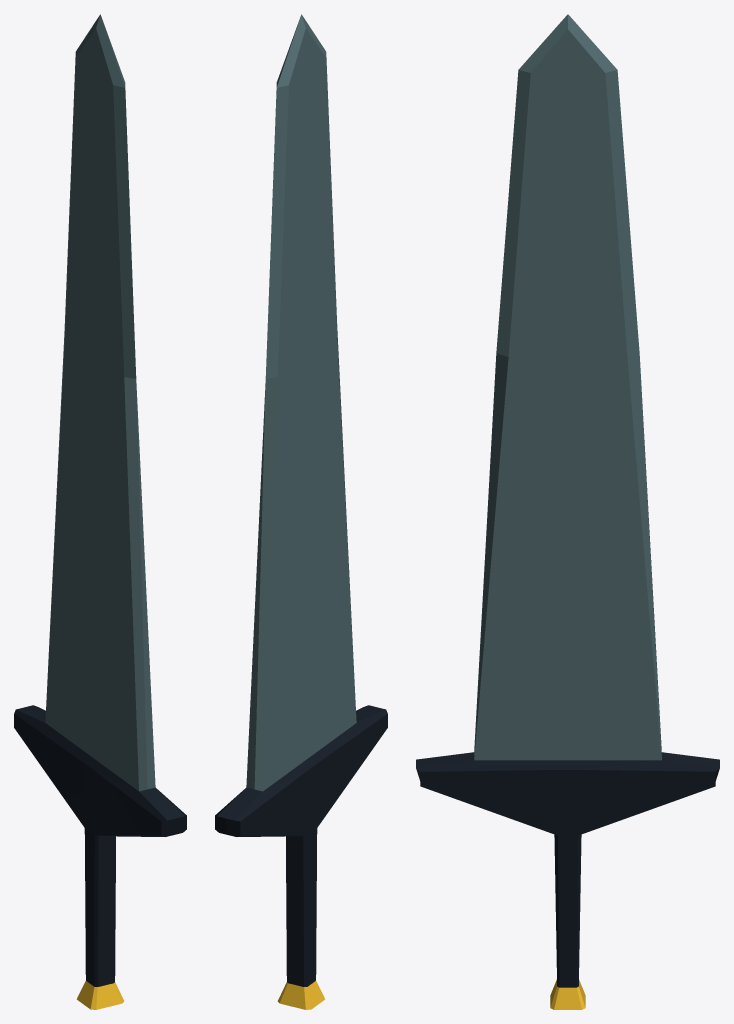
The model's file is GREATSWORD.fbx.
The picture shows the model from 3 angles, left to right: view 1: azimuth 30°, elevation 25°; view 2: azimuth 150°, elevation 25°; view 3: azimuth 270°, elevation 25°; orthographic projection.
Parts seen in each view (by area): view 1: MegaSwordLVL2.001; view 2: MegaSwordLVL2.001; view 3: MegaSwordLVL2.001.
Part boxes in pixels (box(x1,y1,x2,y2)): MegaSwordLVL2.001: box(14, 14, 186, 1009); MegaSwordLVL2.001: box(215, 14, 387, 1009); MegaSwordLVL2.001: box(416, 14, 719, 1009).
Size of the model in its own units: 29.24 by 814 by 227.
